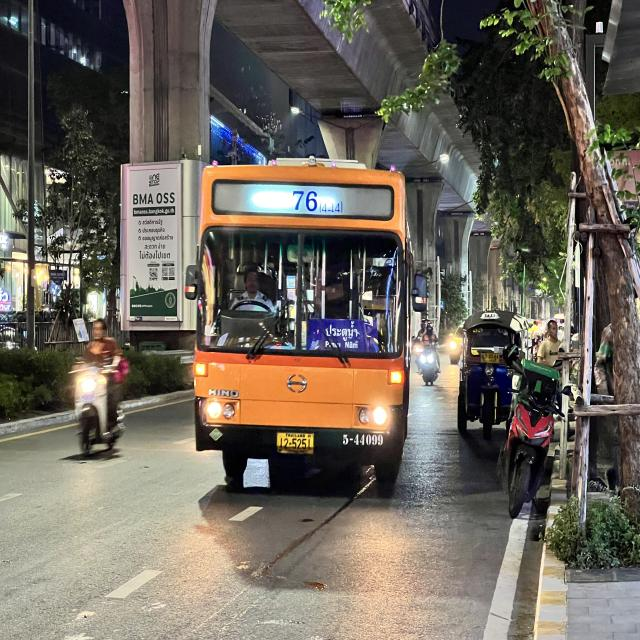BMTA-bus: (186, 150, 429, 493)
Bus-Line-Number: (286, 186, 346, 213)
Destination-Sign-Normal: (308, 317, 379, 353)
